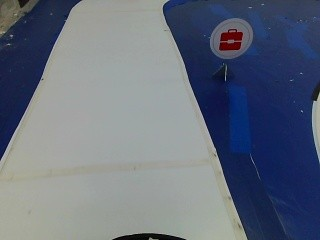company: (212, 20, 253, 60)
